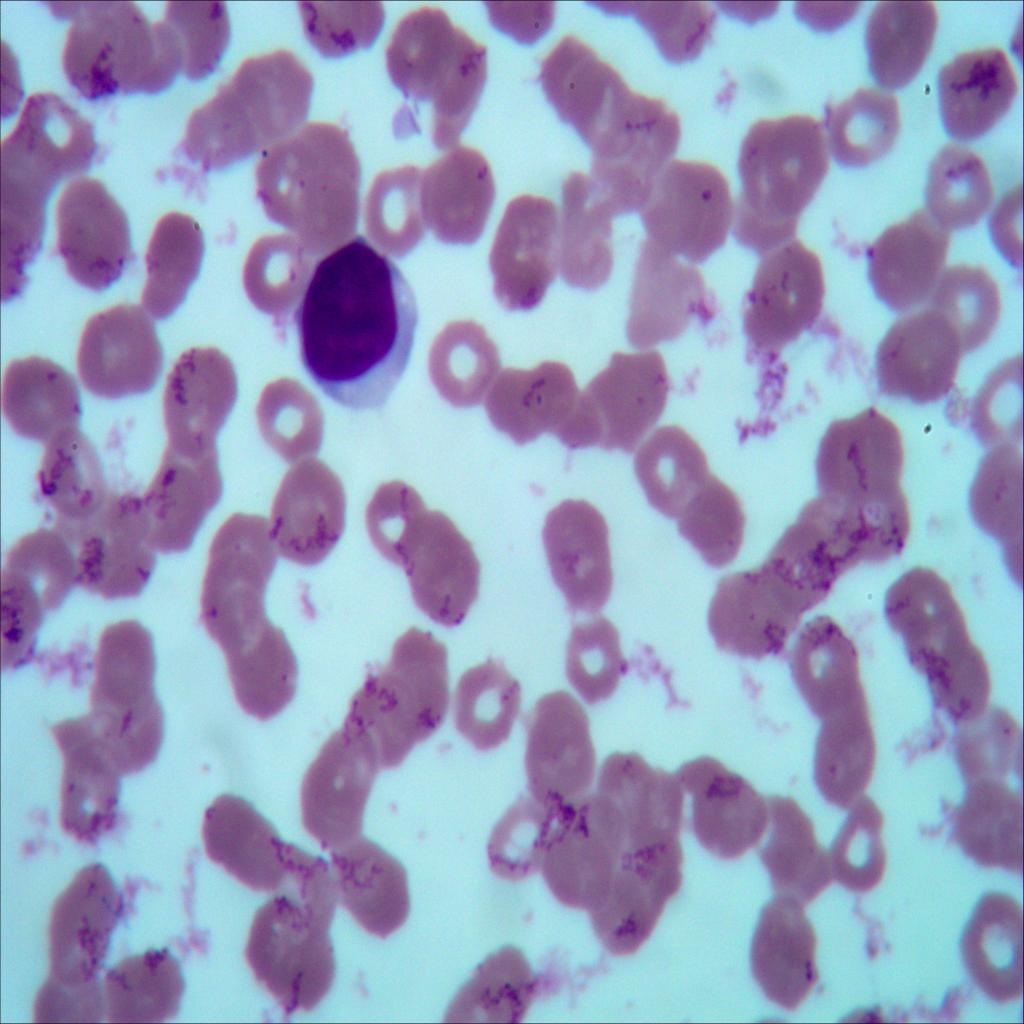Limfoblast: (297, 216, 420, 423)
